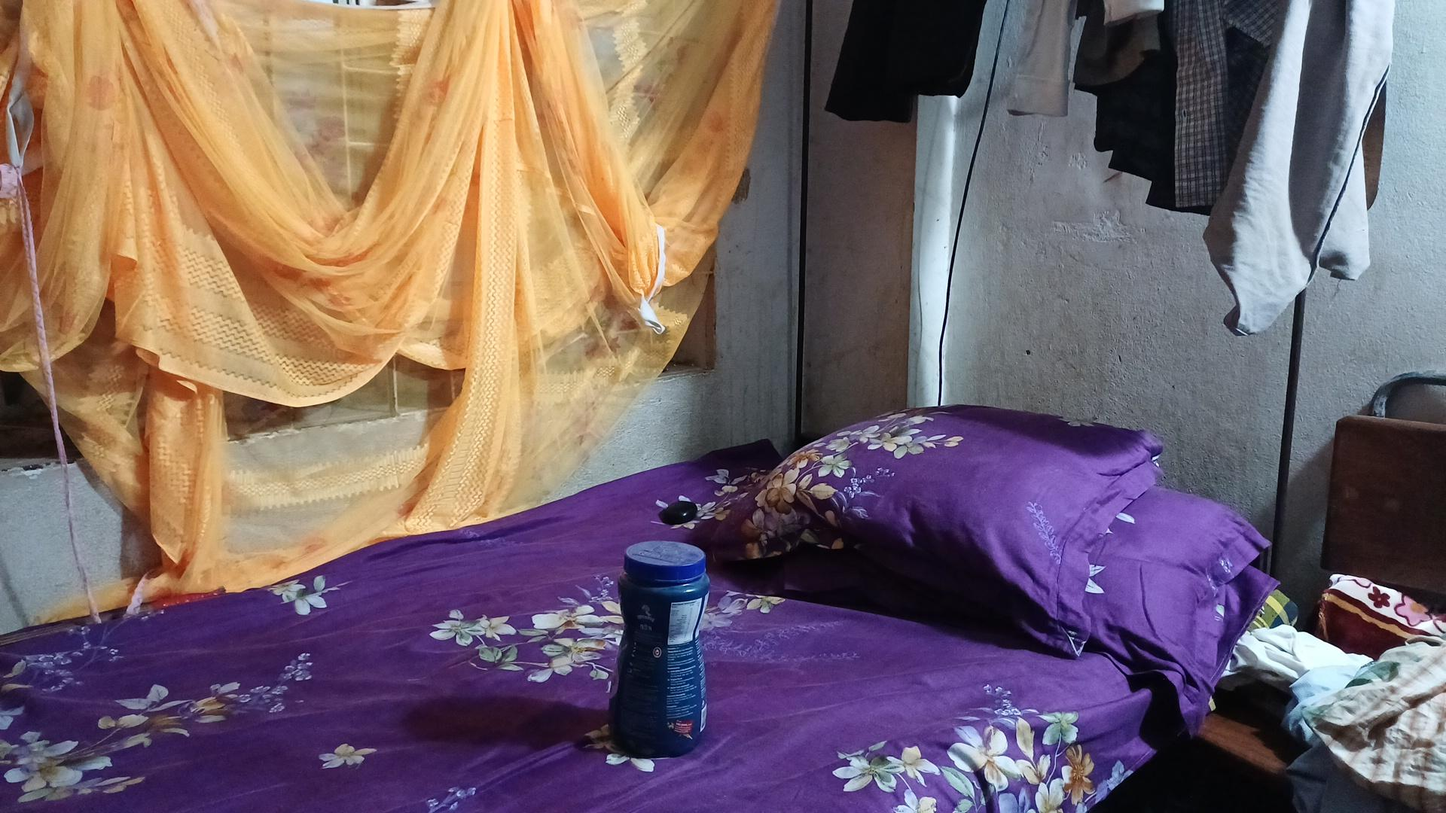Bottle: (603, 550, 723, 739)
Pillow: (776, 367, 1240, 668)
